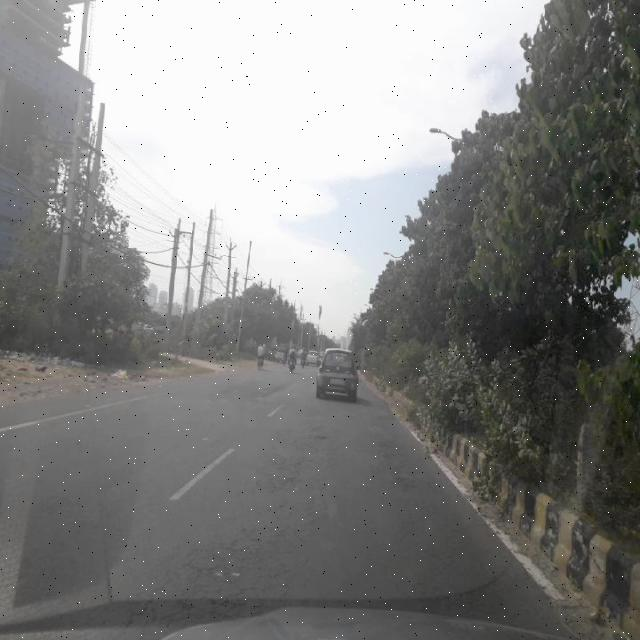D20: (146, 414, 329, 630), (358, 409, 481, 613)
D44: (45, 381, 178, 423)
